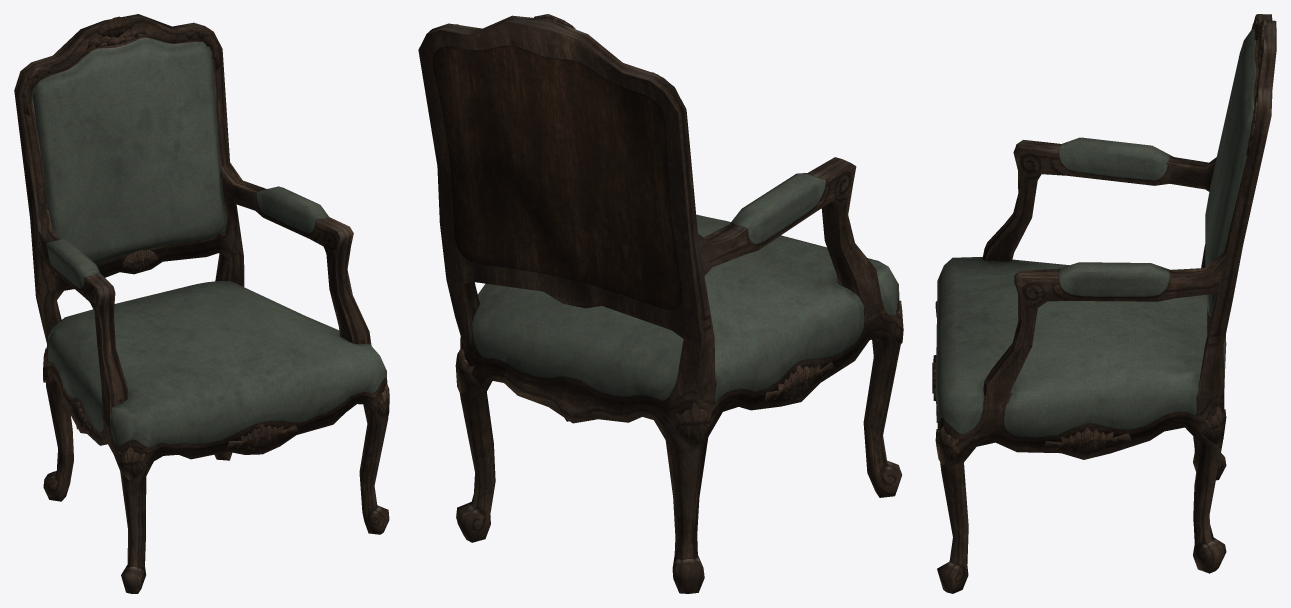
The model's file is GreenChair_01_1k_LOD1.fbx.
3 renders of one model, left to right at view 1: azimuth 30°, elevation 25°; view 2: azimuth 150°, elevation 25°; view 3: azimuth 270°, elevation 25°, orthographic. The views are drawn at different scales.
Parts seen in each view (by area): view 1: GreenChair_01; view 2: GreenChair_01; view 3: GreenChair_01.
Boxes of the visible parts, x1=… form: GreenChair_01: x1=14, y1=14, x2=389, y2=593; GreenChair_01: x1=418, y1=14, x2=903, y2=593; GreenChair_01: x1=932, y1=14, x2=1276, y2=593.
Size of the model in its own units: 67.23 by 106 by 66.42.
